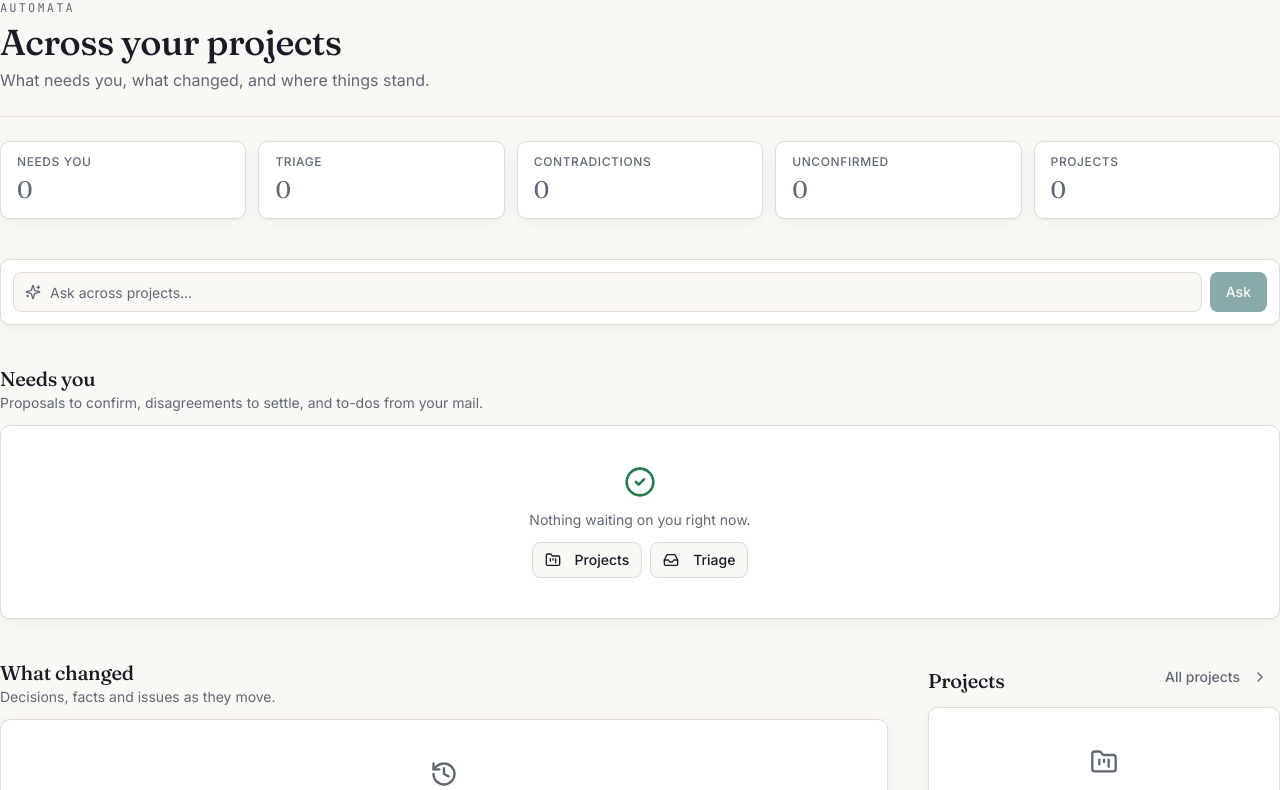
Test: AssistantHomePage › asks across projects and shows cited answer
Check: the element named "ask across projects" is shown, box [0, 259, 1279, 325]
In the field with placeholder "Ask across projects…": (607, 292) [13, 272, 1202, 312], type "What is pump duty?"
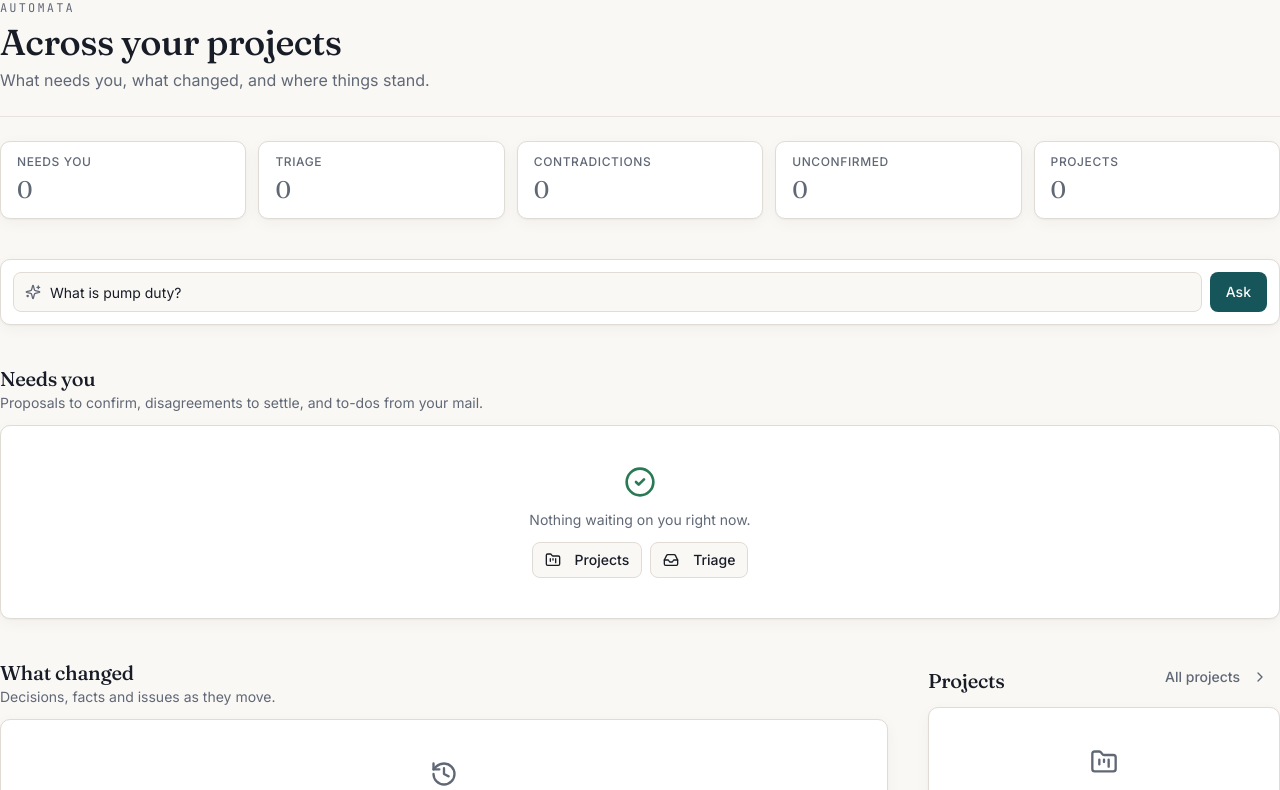
Click the button "Ask": click(1238, 292) [1210, 272, 1267, 312]
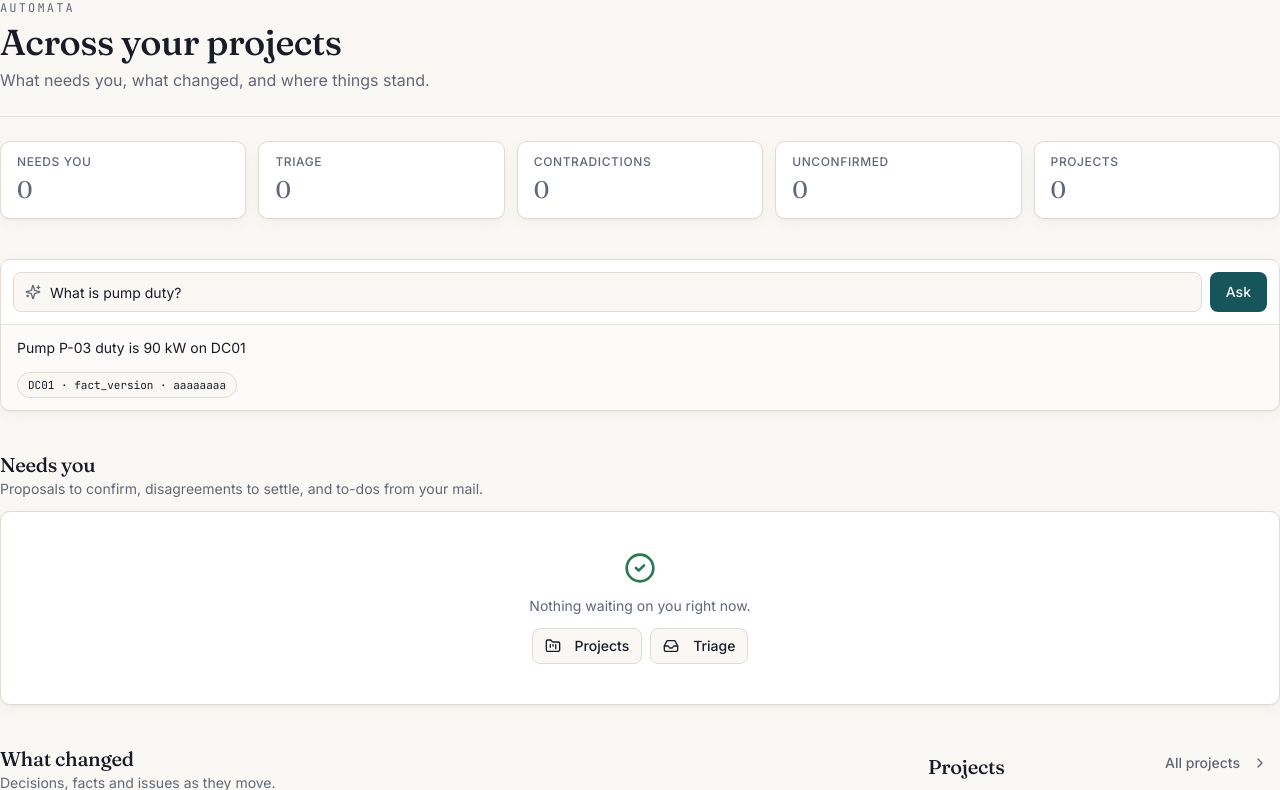
Check: the text "Pump P-03 duty is 90 kW on DC01" is shown, box [17, 339, 246, 356]
